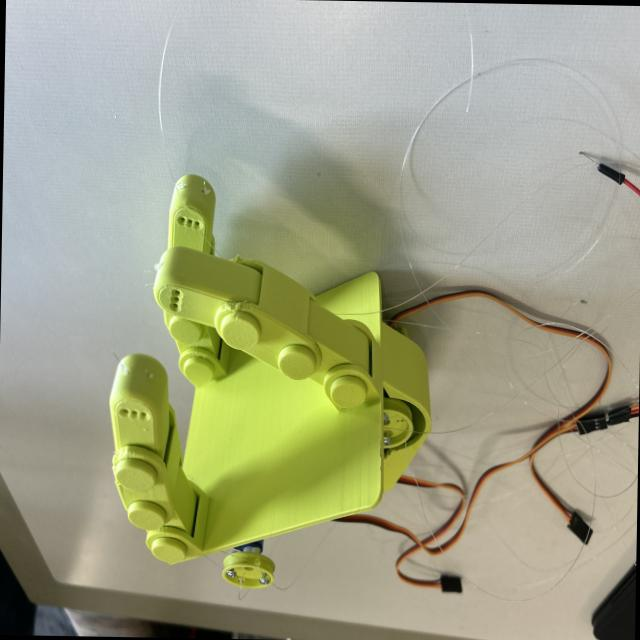prosthetic: (100, 157, 438, 574)
